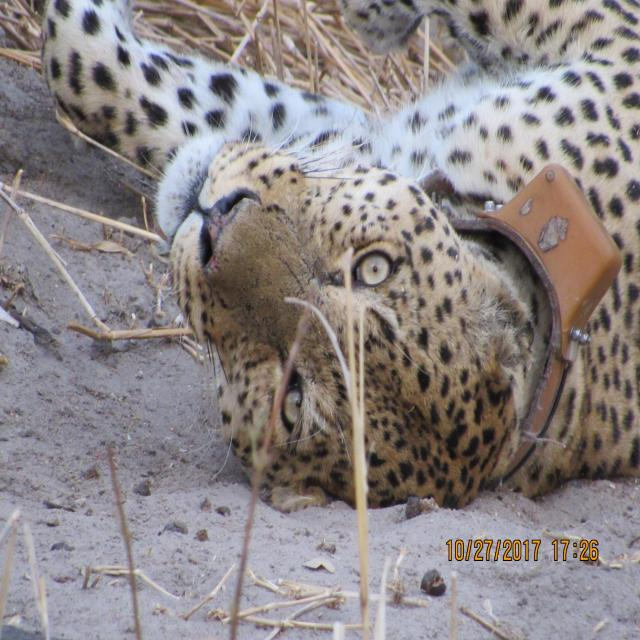Leopard: (83, 7, 640, 534)
